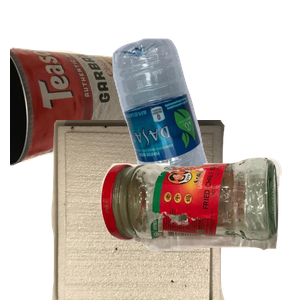glass: (98, 155, 300, 300)
metal: (10, 44, 151, 203)
plastic: (110, 36, 300, 216)
trash: (49, 120, 269, 300)
